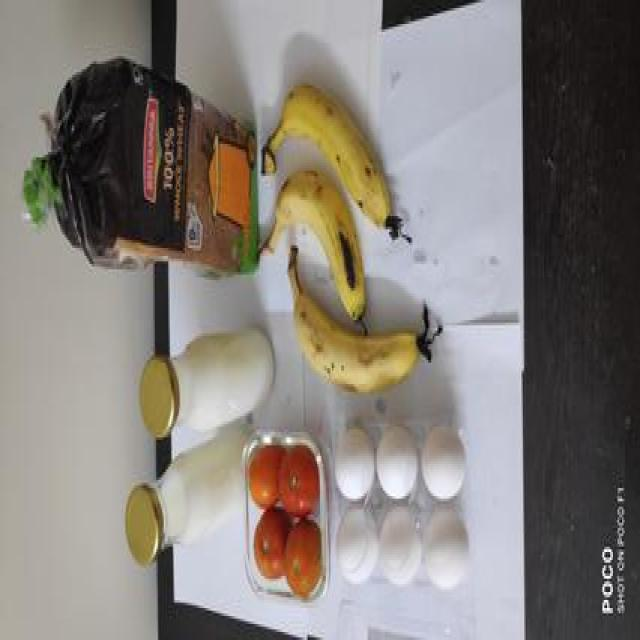Fresh_tomato: (245, 450, 318, 590)
